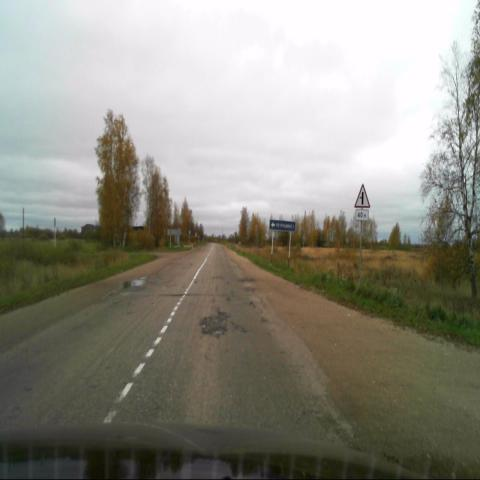2_3_3: (354, 185, 370, 208)
8_1_1: (356, 209, 368, 220)
